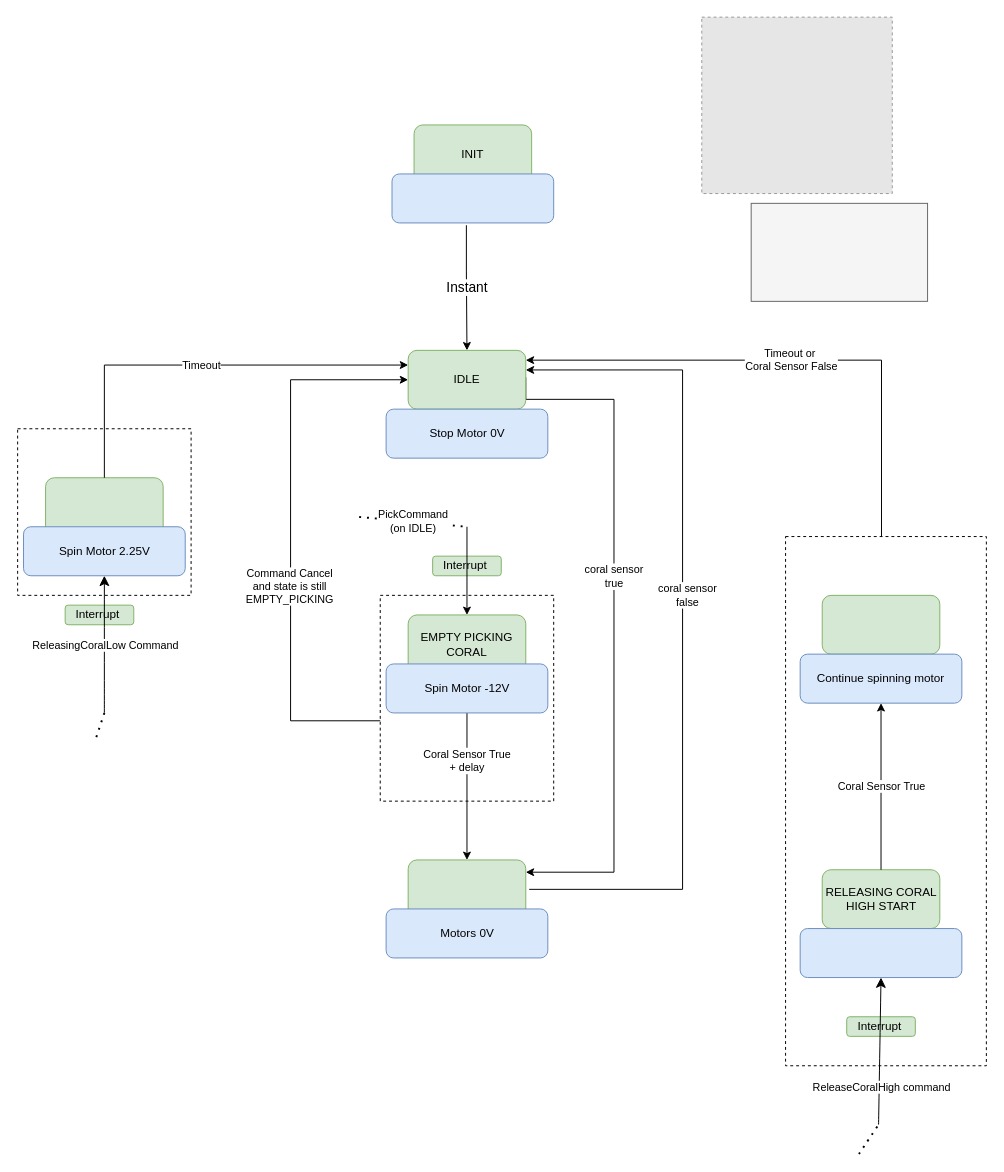
The diagram is 1004 pixels wide and 1172 high, and some of its shapes have lost their labels. Grey dashed boxes stand in for pictures. Here are the shapes that lost their labels. From the top down, the centre of each, then its label:
At (472,198): "Nothing".
At (839,251): "Sensors: Breakbeam Motors: Kraken X44 (x2)".
At (104,507): "RELEASING CORAL LOW".
At (880,624): "RELEASING CORAL HIGH HALFWAY".
At (466,889): "PICKED CORAL".
At (880,953): "Spin Motor -4V".
